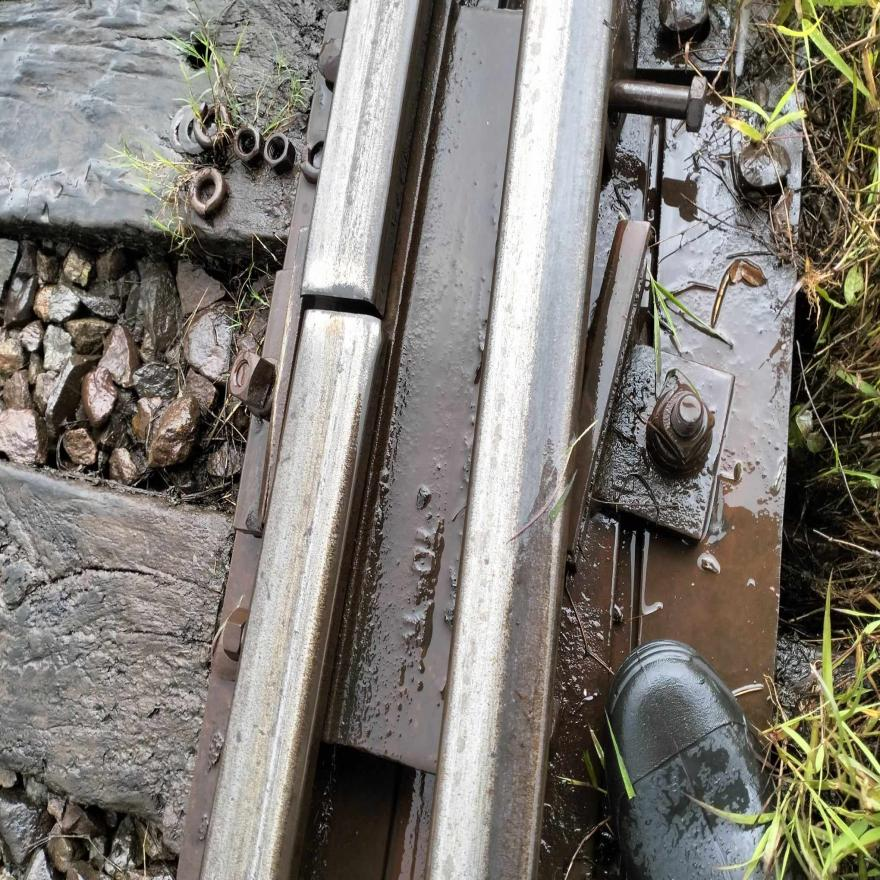railway-gap: (277, 230, 406, 388)
